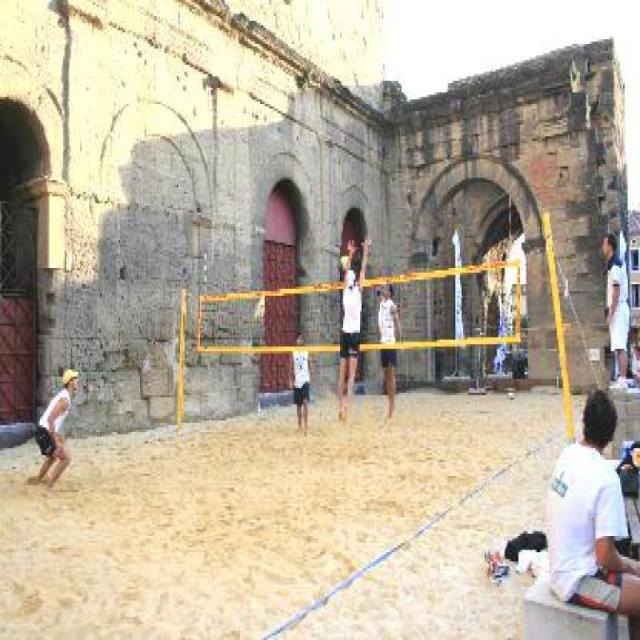volleyball: (338, 256, 349, 272), (508, 390, 514, 400)
